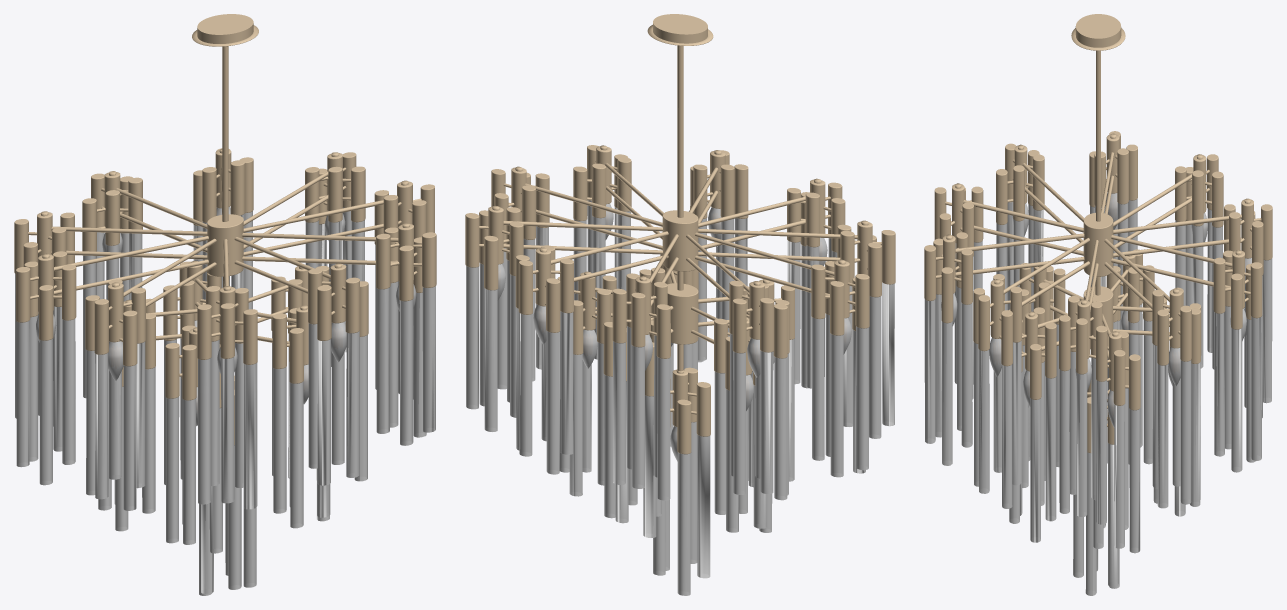
File: lamba.glb
3 renders of one model, left to right at view 1: azimuth 30°, elevation 25°; view 2: azimuth 150°, elevation 25°; view 3: azimuth 270°, elevation 25°, orthographic. The views are drawn at different scales.
Visible parts, largest first — view 1: Material2 (×7); view 2: Material2 (×7); view 3: Material2 (×7).
Part boxes in pixels (x1,y1,x2,y2): Material2 (×7): (14,14,436,595); Material2 (×7): (465,14,895,595); Material2 (×7): (924,14,1272,595).
Size of what is drawn, in the model's own units: 43.13 by 58.75 by 32.81.
